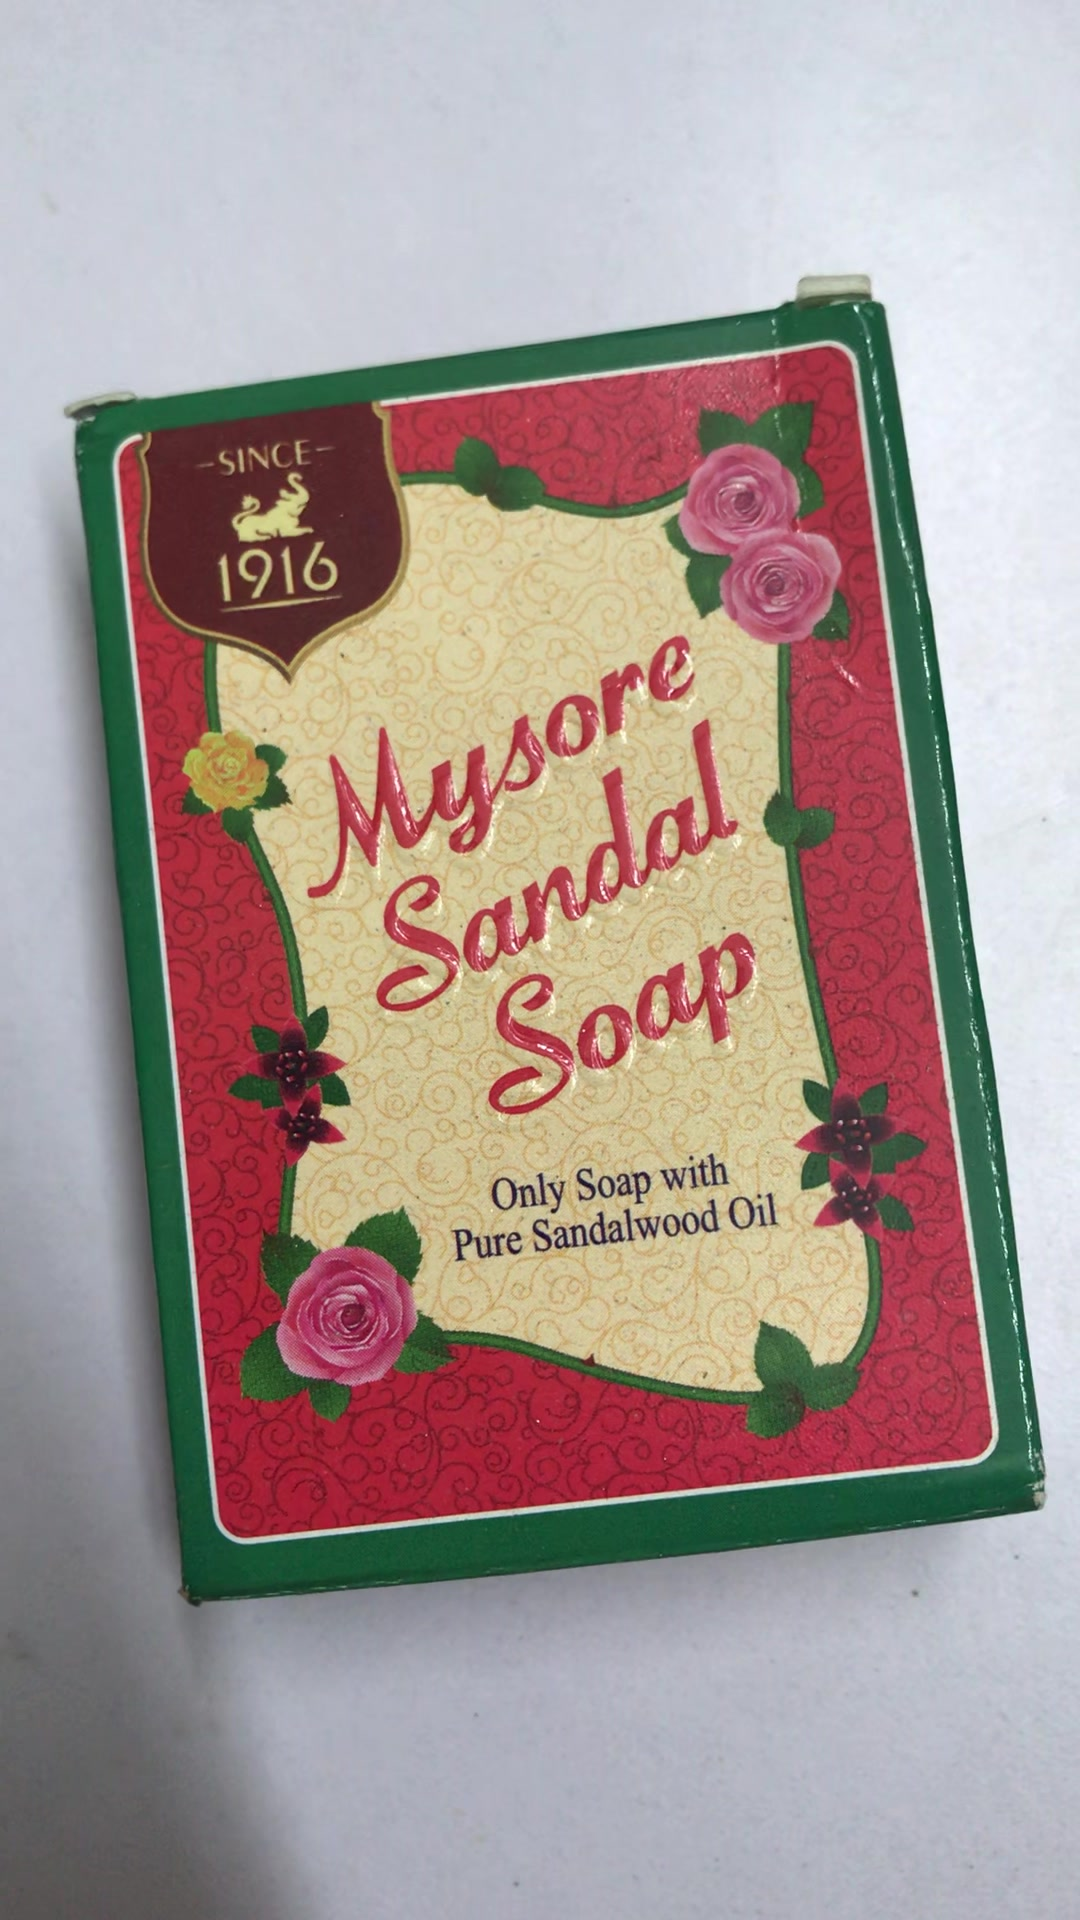mysore sandal soap: (78, 291, 1047, 1602)
